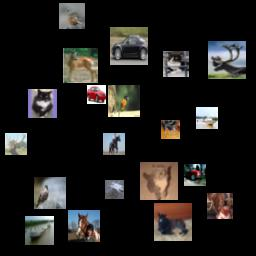airplane: (105, 180, 124, 199)
automobile: (110, 27, 148, 65), (184, 164, 206, 186), (87, 85, 106, 104)
bird: (34, 177, 66, 209), (108, 85, 140, 117), (59, 3, 85, 29)
cat: (140, 162, 178, 200), (28, 89, 57, 118), (163, 51, 189, 77), (207, 193, 233, 219)
deer: (208, 41, 246, 79), (63, 48, 98, 83), (5, 133, 27, 155)
dog: (161, 120, 180, 139)
ship: (25, 216, 54, 245), (196, 107, 218, 129)
